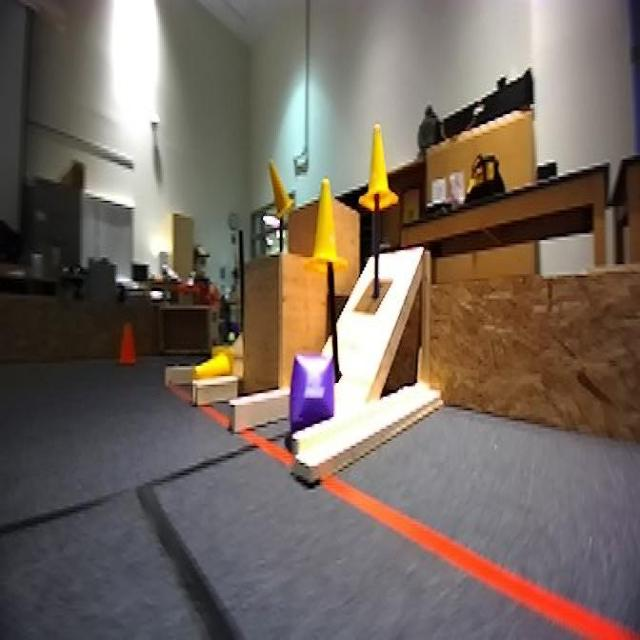frc_cone: (302, 177, 348, 281), (359, 124, 398, 211), (192, 342, 236, 387), (268, 163, 295, 220)
frc_cube: (290, 351, 335, 432)
